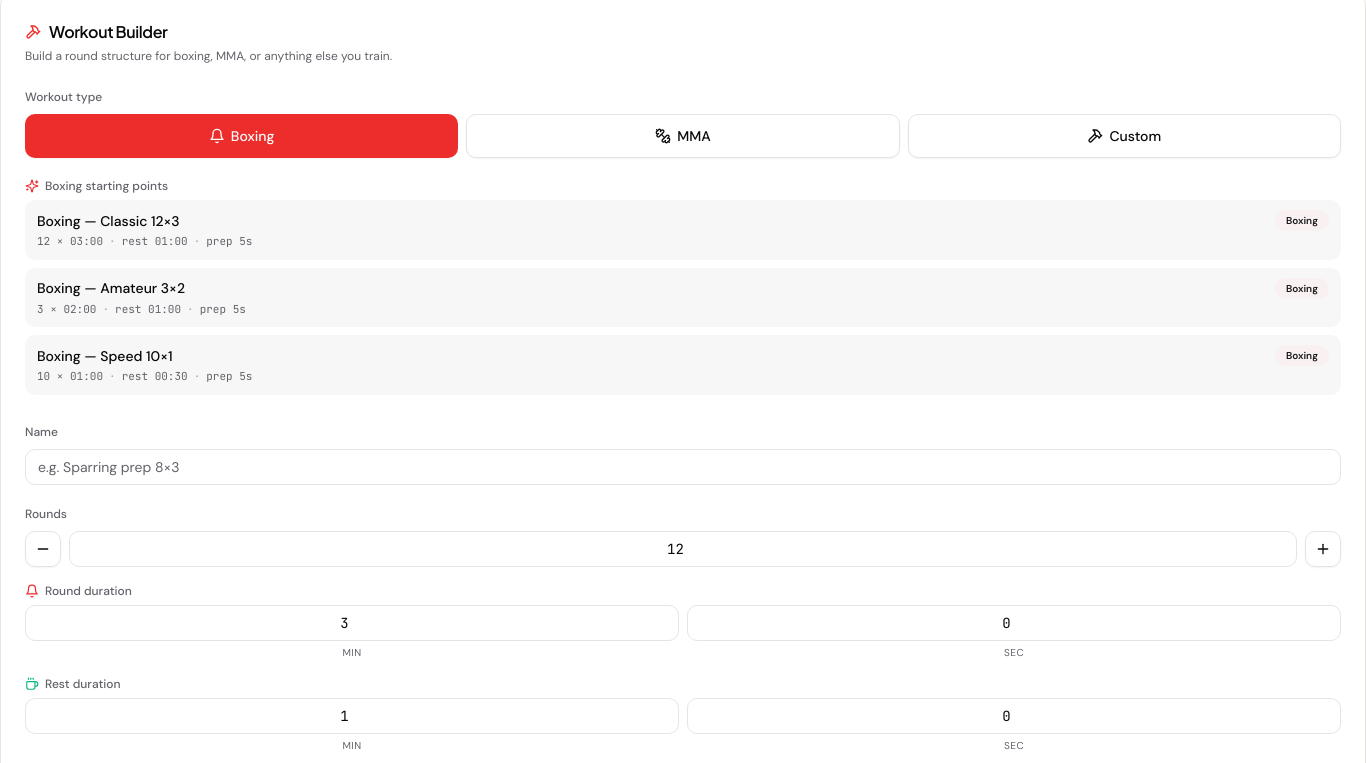
Test: WorkoutBuilder › shows the field message and persists nothing when the name is empty
Step 1. Replace the text in the number field named "Rounds" with "7" → (683, 548), box [69,530,1297,566]
(page scrolled)
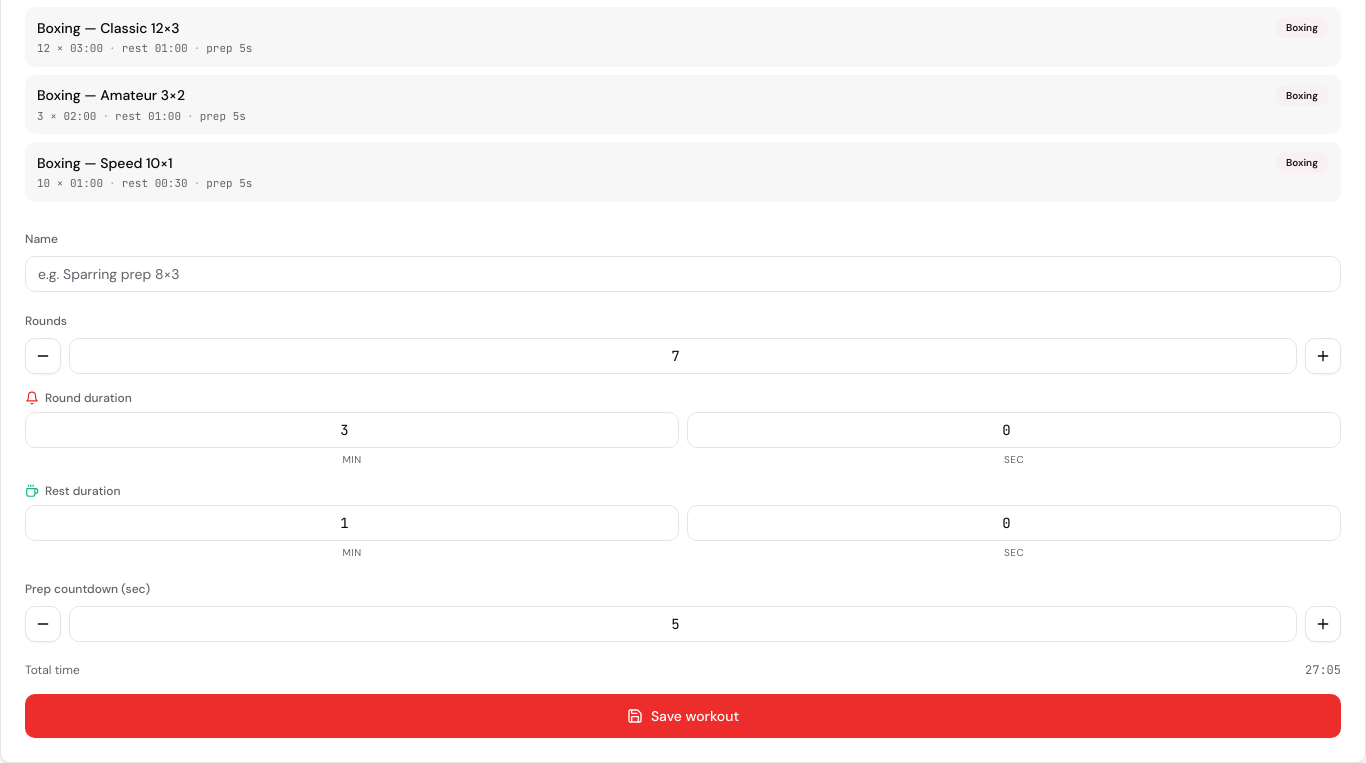
Step 2. Click the button "Save workout" → (683, 716), box [25,694,1341,738]
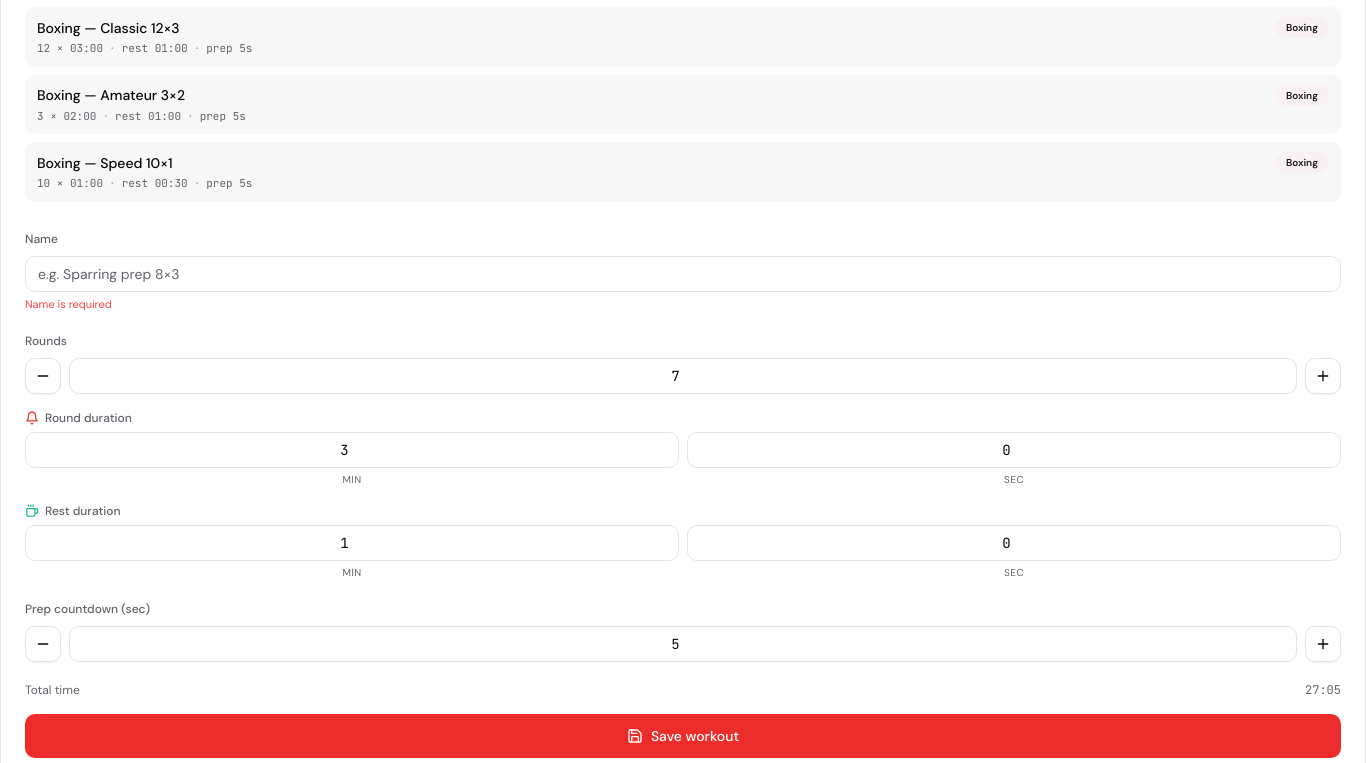
Expected: the message reads "Name is required", [25,296,112,310]
